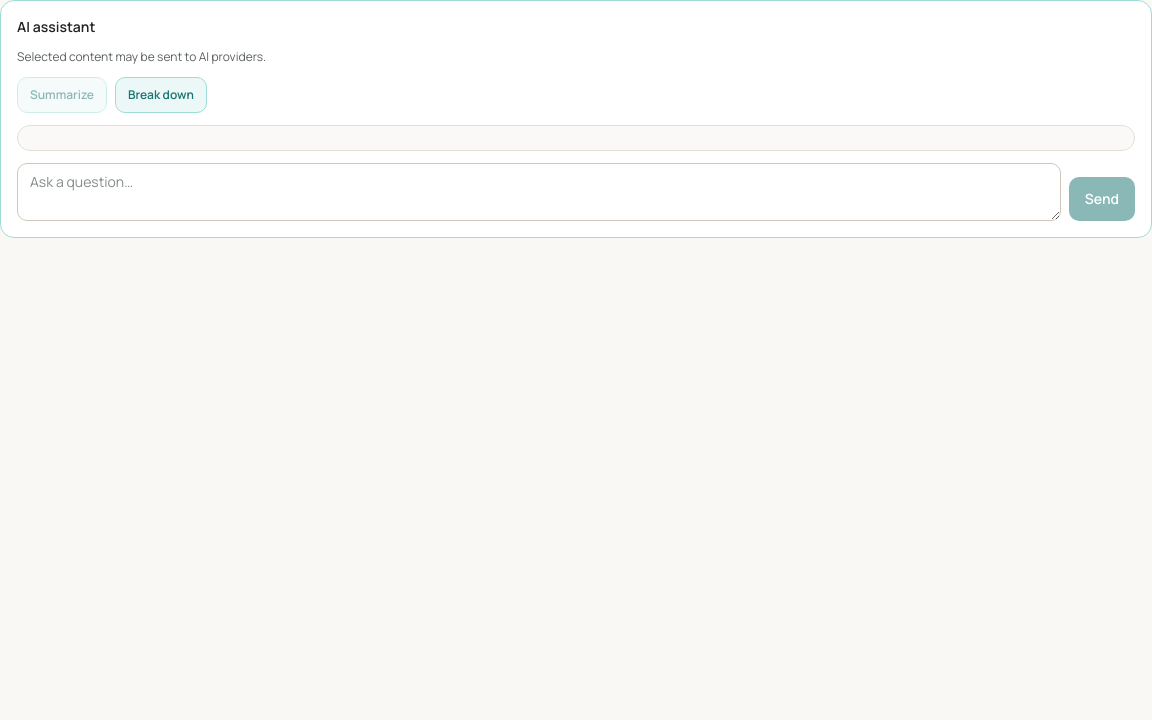
Test case: BreakdownDialog › FR-AI-08 / TC-AI-08: shows a friendly breakdown error and allows retry without creating cards
Step 1. Click the button with aria-label "Break down a project" → (161, 95), box [115,77,207,113]
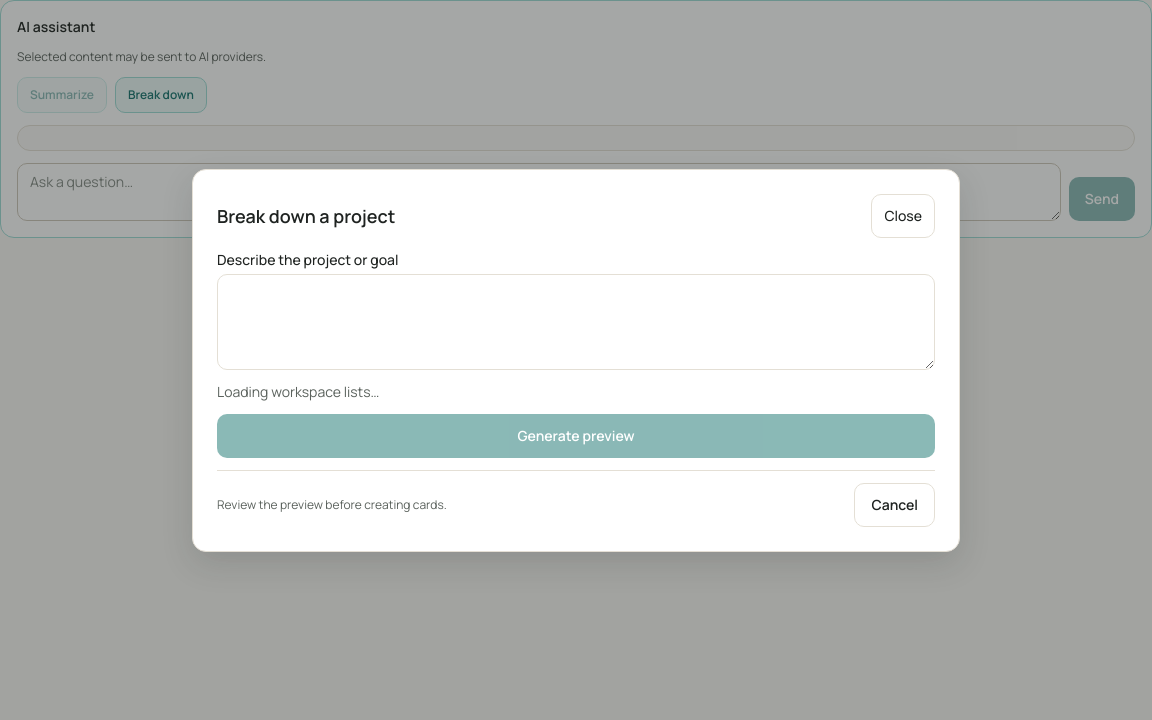
Step 2. Type "Build a study app" into the text box labelled "Describe the project or goal" → (576, 322), box [217,274,935,370]
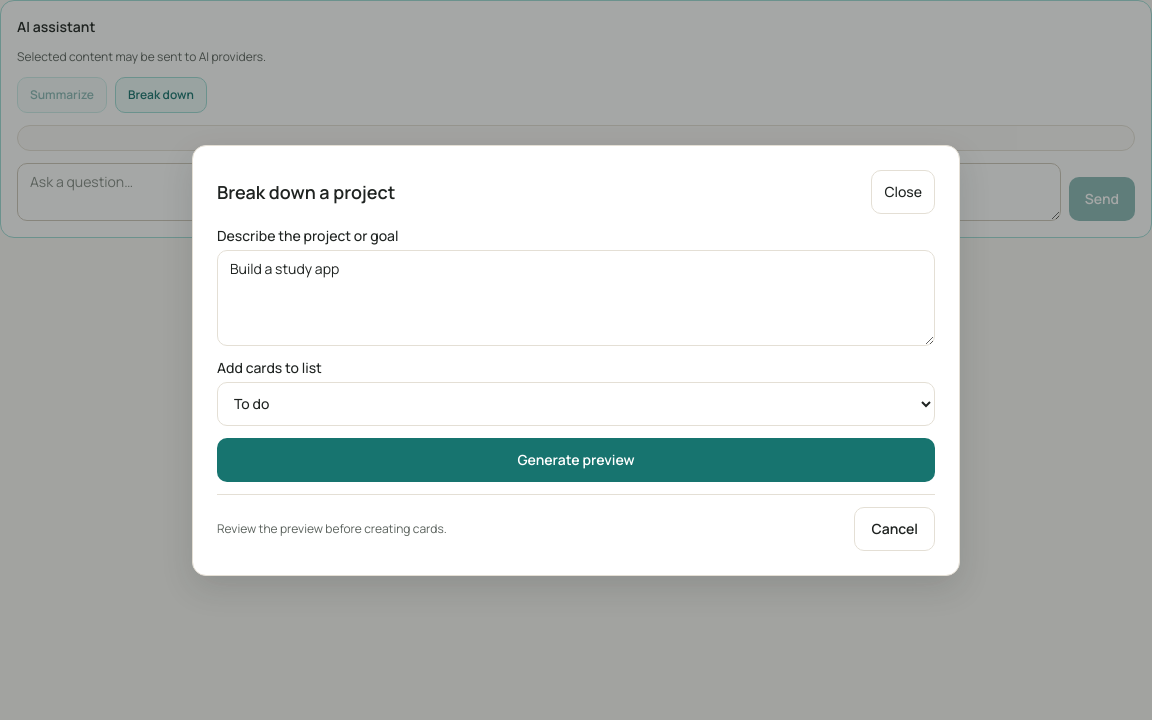
Expected: the button "Generate preview" is enabled
Step 3. Click the button "Generate preview" → (576, 460), box [217,438,935,482]
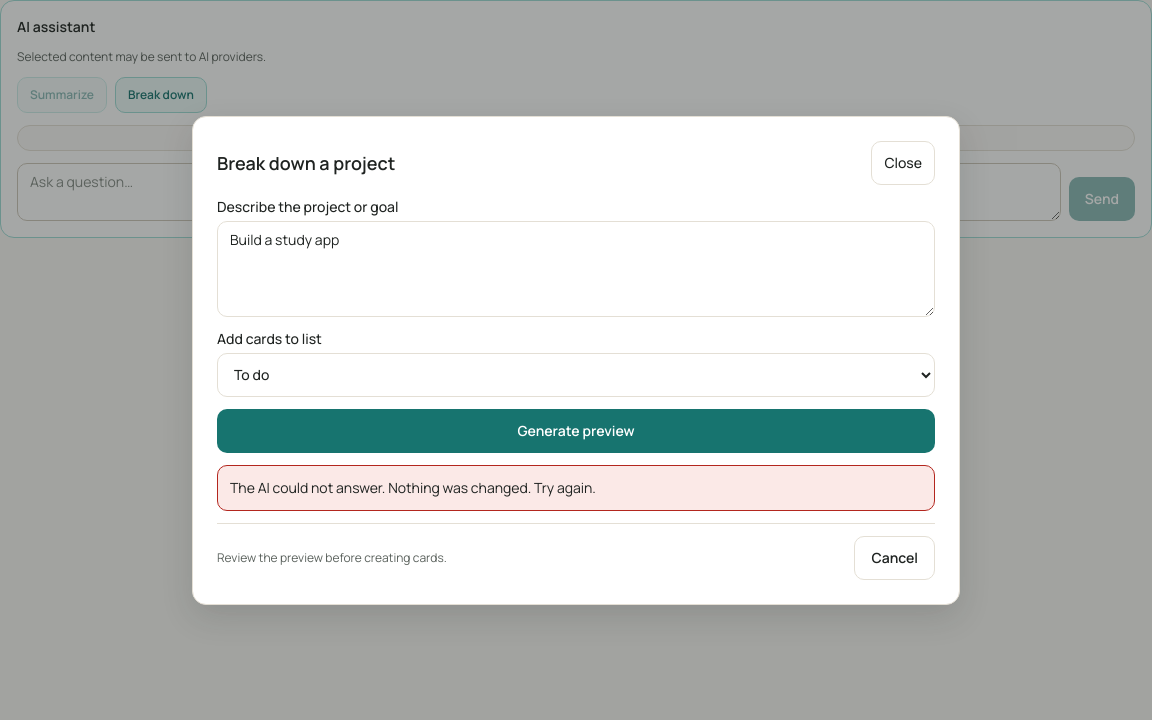
Expected: the message reads "The AI could not answer. Nothing was changed. Try again.", [230,478,596,496]
Step 4. Click the button "Generate preview" → (576, 430), box [217,408,935,452]
(page scrolled)
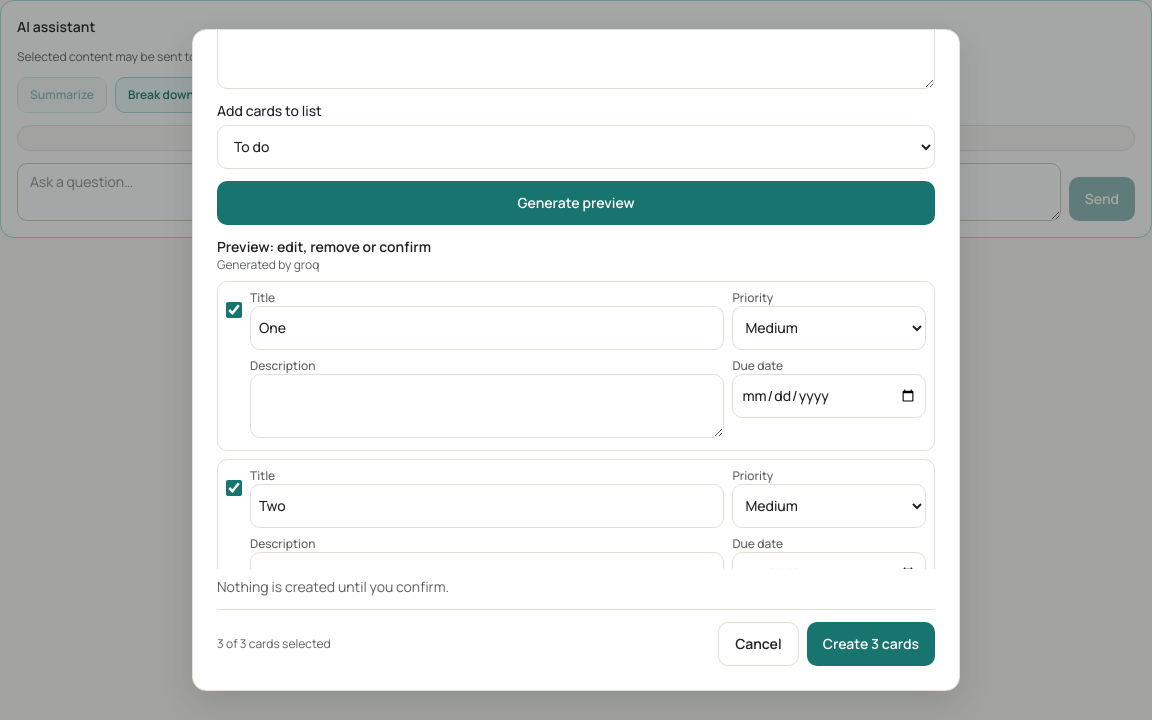
Expected: the element named "Breakdown preview" is shown, [217,237,935,597]
